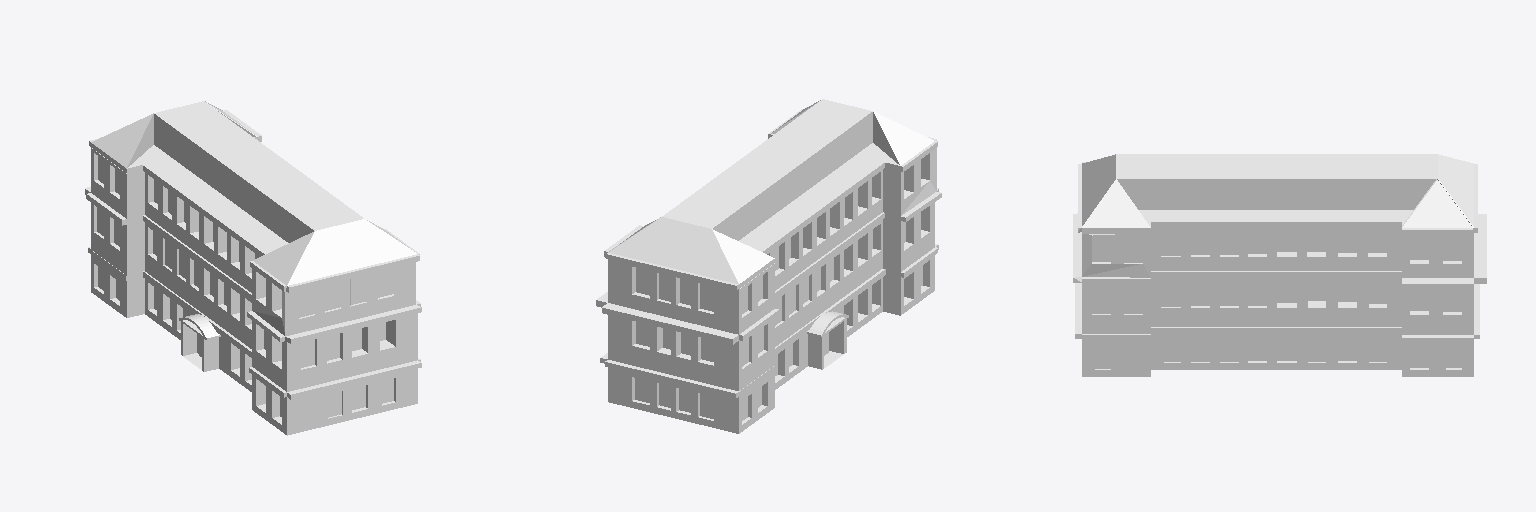
3 views of the same model, side by side, from view 1: azimuth 30°, elevation 25°; view 2: azimuth 150°, elevation 25°; view 3: azimuth 270°, elevation 25° (orthographic).
Parts seen in each view (by area): view 1: SketchUp_ID2; view 2: SketchUp_ID2; view 3: SketchUp_ID2, SketchUp.061_ID370, SketchUp.057_ID346, SketchUp.109_ID418, SketchUp.105_ID394, SketchUp.060_ID364, SketchUp.059_ID358, SketchUp.058_ID352, SketchUp.056_ID340, SketchUp.055_ID334, SketchUp.054_ID328, SketchUp.049_ID298 (+1 smaller).
Part boxes in pixels (left/top/right/bottom): SketchUp_ID2: left=85, top=101, right=421, bottom=435; SketchUp_ID2: left=596, top=99, right=941, bottom=433; SketchUp_ID2: left=1073, top=154, right=1486, bottom=376; SketchUp.061_ID370: left=1161, top=229, right=1180, bottom=256; SketchUp.057_ID346: left=1277, top=229, right=1296, bottom=256; SketchUp.109_ID418: left=1161, top=281, right=1180, bottom=307; SketchUp.105_ID394: left=1277, top=281, right=1296, bottom=307; SketchUp.060_ID364: left=1191, top=229, right=1209, bottom=256; SketchUp.059_ID358: left=1220, top=229, right=1238, bottom=256; SketchUp.058_ID352: left=1248, top=229, right=1266, bottom=256; SketchUp.056_ID340: left=1307, top=229, right=1325, bottom=256; SketchUp.055_ID334: left=1338, top=229, right=1356, bottom=256; SketchUp.054_ID328: left=1368, top=229, right=1386, bottom=256; SketchUp.049_ID298: left=1410, top=236, right=1428, bottom=263.
Bounding box in the file's own units: 6.71 × 7.75 × 16.03.